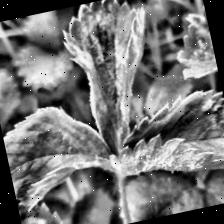Powdery Mildew Leaf: (55, 0, 175, 162), (0, 91, 121, 212), (96, 85, 224, 191)
